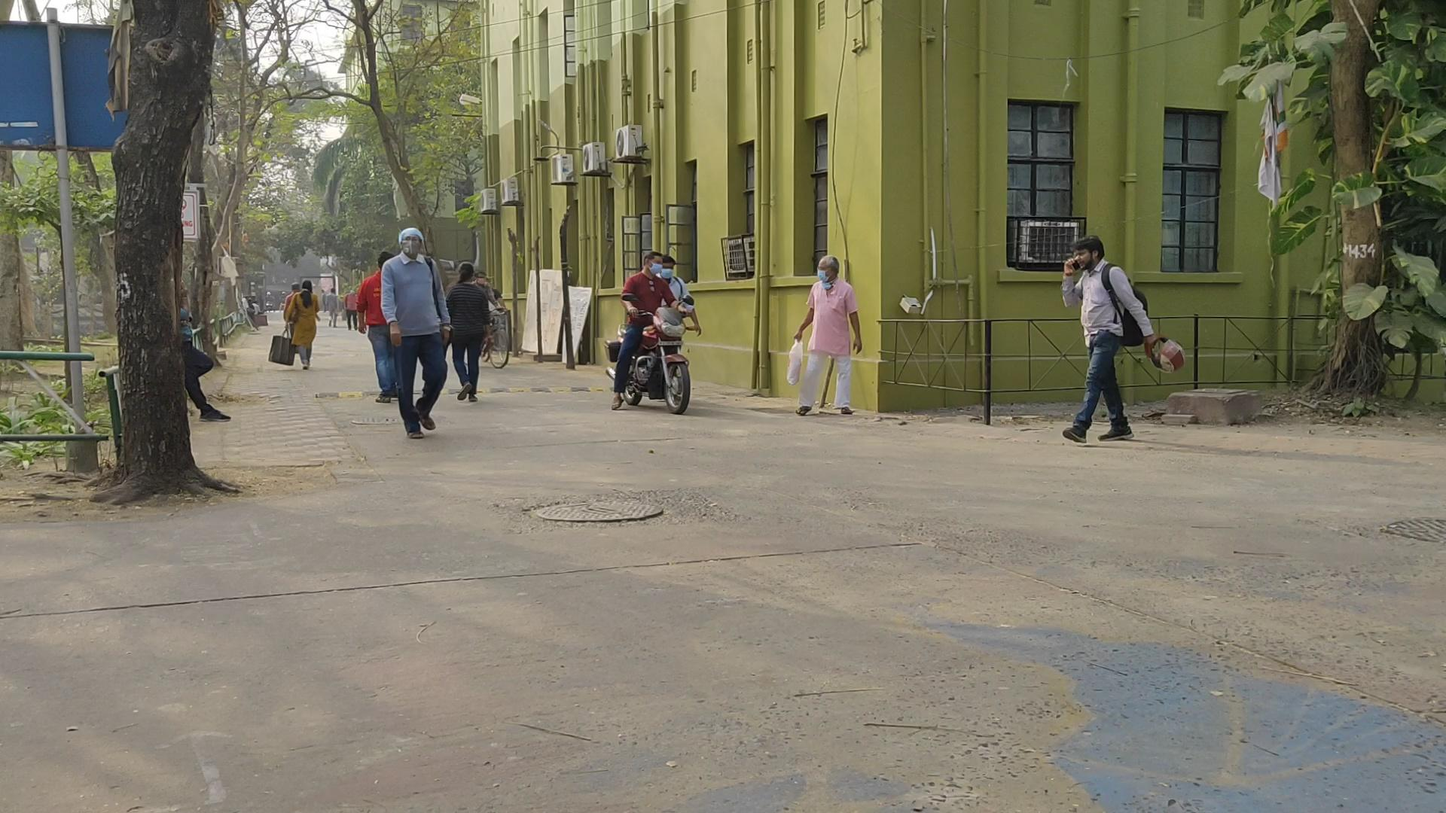bike: (606, 252, 689, 413)
